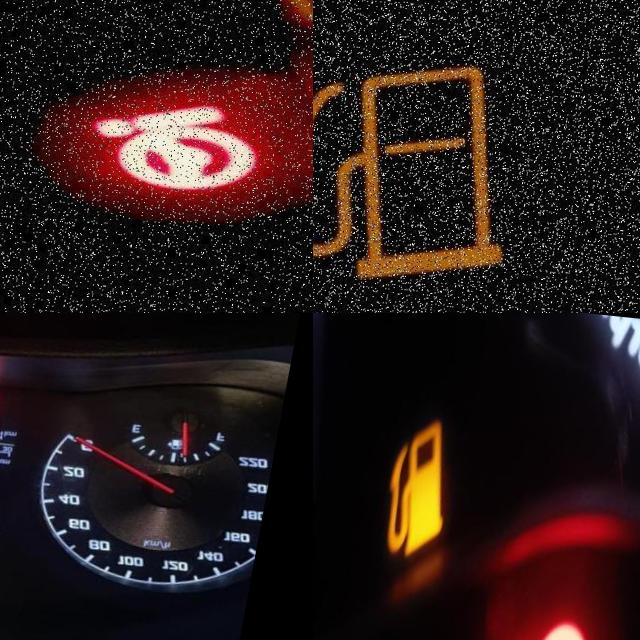Electronic Power Steering: (70, 73, 301, 214), (497, 592, 618, 640)
